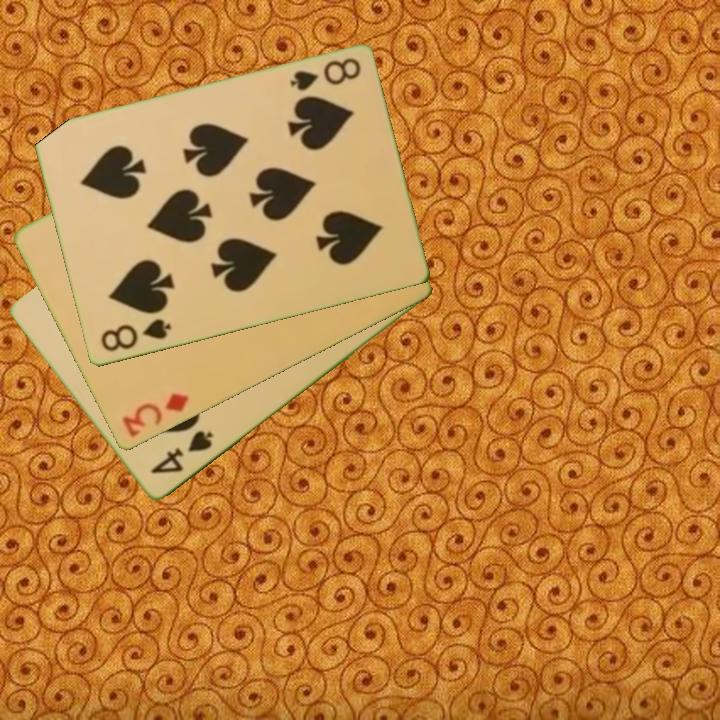3d: (119, 390, 192, 441)
4s: (147, 427, 216, 478)
8s: (286, 55, 364, 95), (97, 315, 174, 355)
